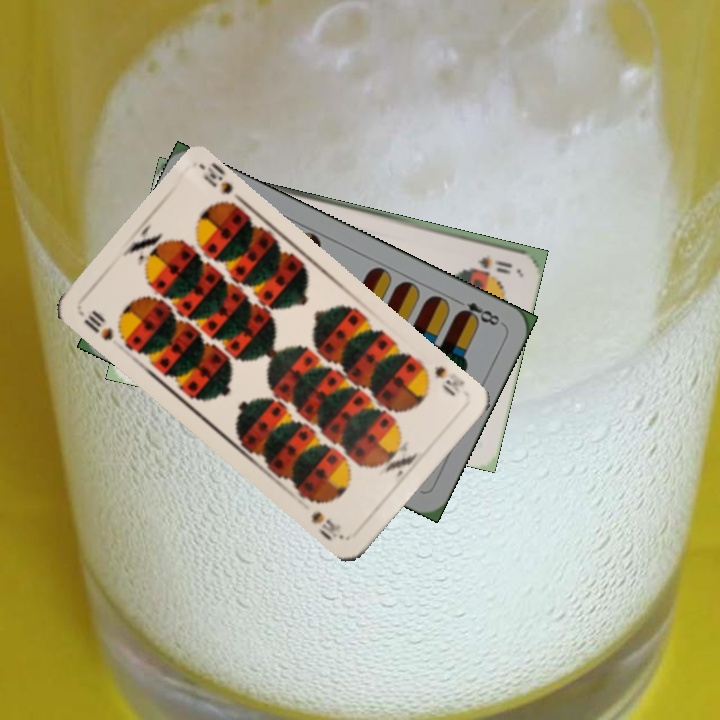E8: (450, 294, 505, 328)
S10: (416, 359, 468, 399), (79, 306, 116, 343)
SO: (473, 253, 515, 271)
